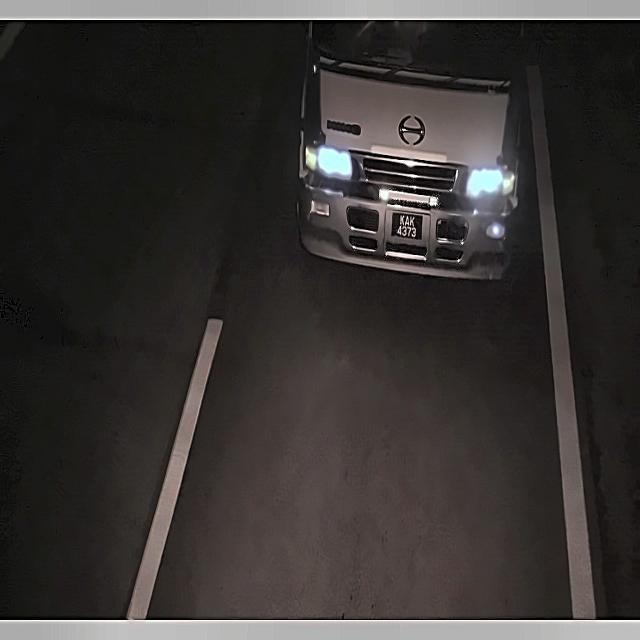car: (392, 209, 424, 248)
